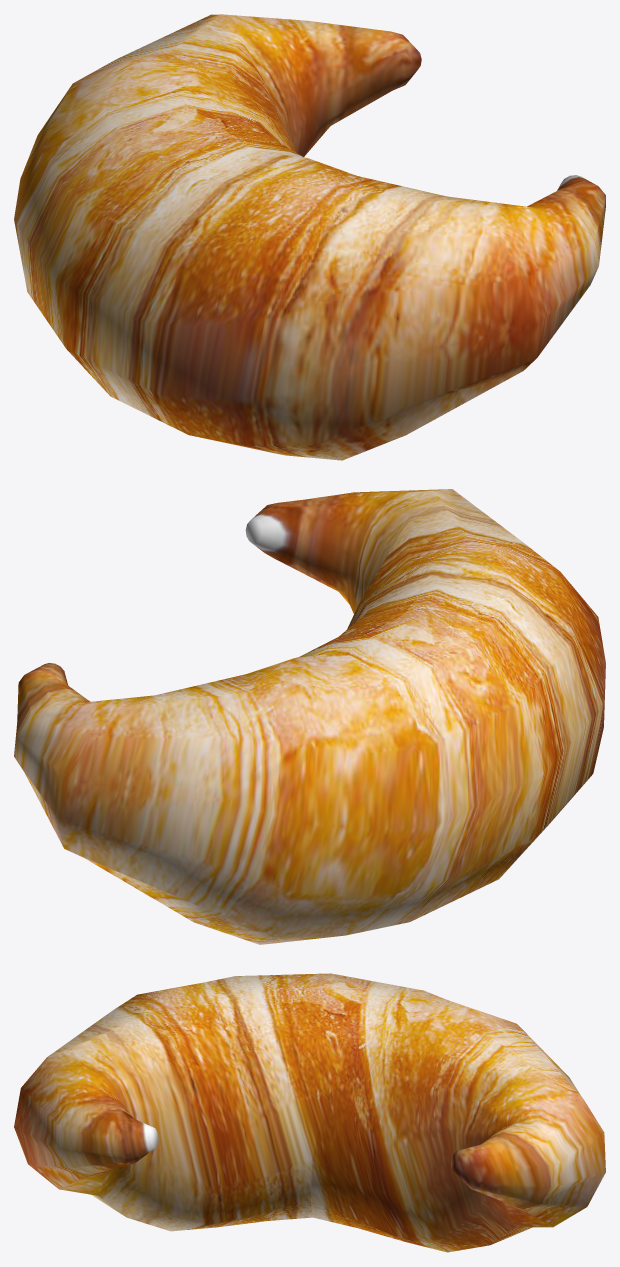
The model's file is cruassan.glb.
3 renders of one model, top to bottom at view 1: azimuth 30°, elevation 25°; view 2: azimuth 150°, elevation 25°; view 3: azimuth 270°, elevation 25°, orthographic. The views are drawn at different scales.
Parts seen in each view (by area): view 1: Cylinder.001; view 2: Cylinder.001; view 3: Cylinder.001.
Boxes of the visible parts, box(x1,y1,x2,y2) form: Cylinder.001: box(14, 14, 605, 460); Cylinder.001: box(14, 489, 605, 944); Cylinder.001: box(14, 973, 605, 1252).
Bounding box in the file's own units: 1.91 × 1.15 × 2.66.
1 material, 1 textured.
